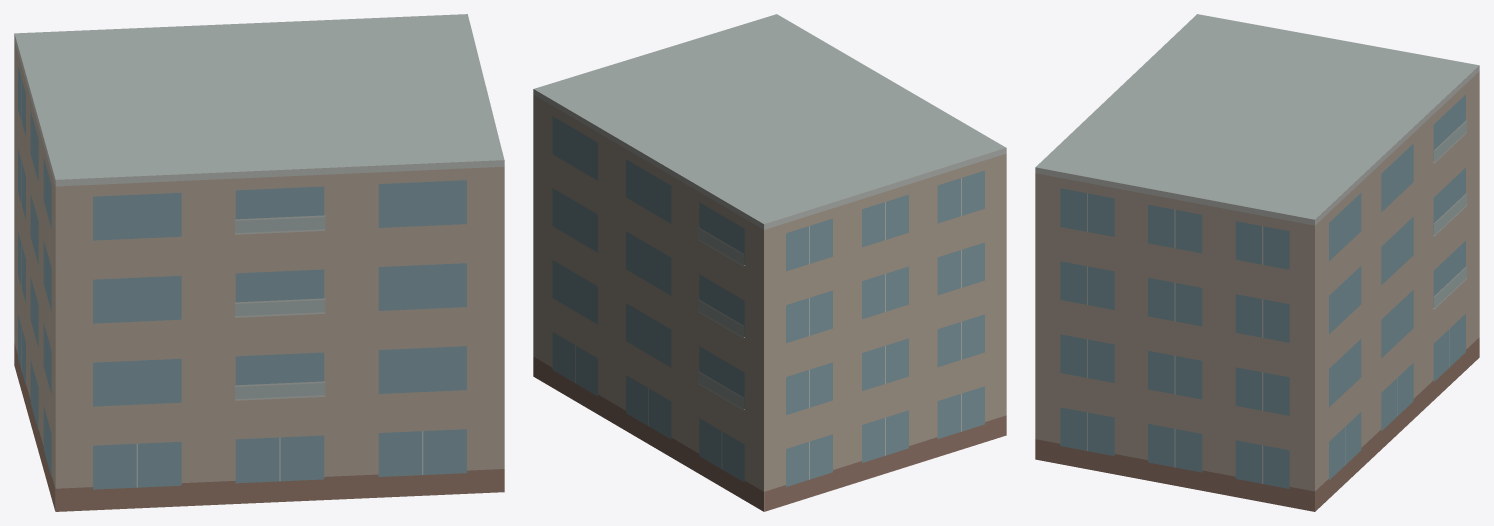
Rendered from survey-upis-32531743.glb.
3 views of the same model, side by side, from view 1: azimuth 30°, elevation 25°; view 2: azimuth 150°, elevation 25°; view 3: azimuth 270°, elevation 25° (orthographic). The views are drawn at different scales.
Visible parts, largest first — view 1: survey-upis-32531743.tmp; view 2: survey-upis-32531743.tmp; view 3: survey-upis-32531743.tmp.
Boxes of the visible parts, x1,y1,x2,y2 form: survey-upis-32531743.tmp: (14, 14, 504, 511); survey-upis-32531743.tmp: (533, 14, 1006, 511); survey-upis-32531743.tmp: (1035, 14, 1479, 511).
Bounding box in the file's own units: 18.44 × 12.2 × 16.82.
